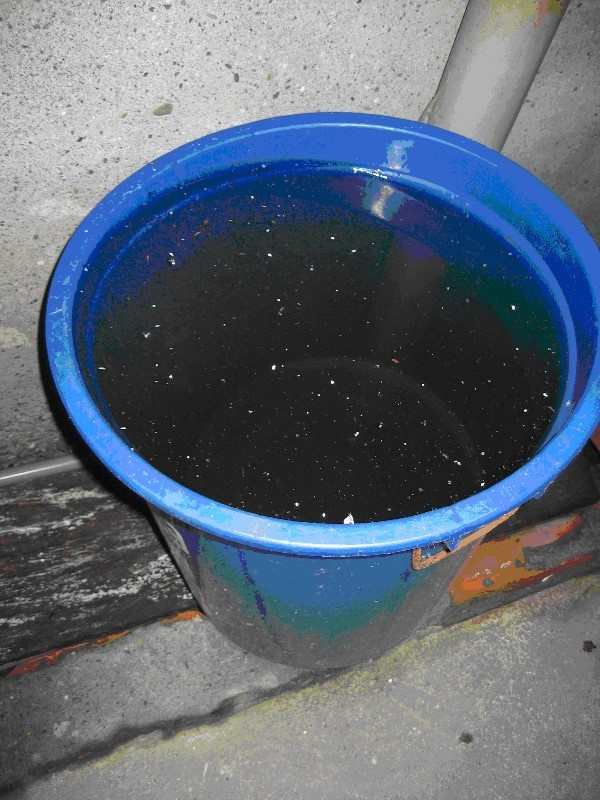bucket: (41, 110, 600, 673)
